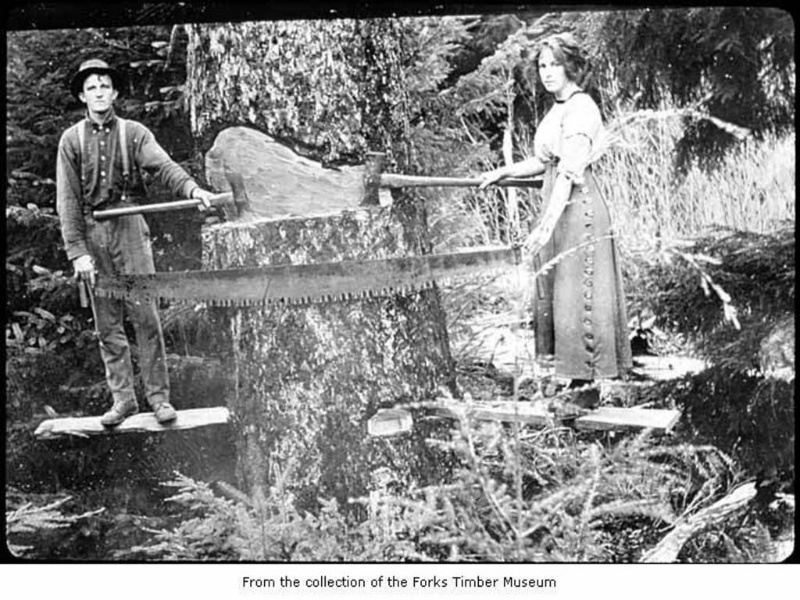axe: (355, 148, 424, 216), (206, 167, 253, 223)
